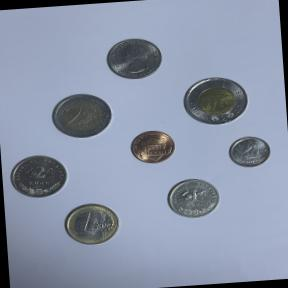1 Euro: (58, 198, 124, 250)
2 Euro: (47, 88, 118, 144)
Canda-10cent-: (225, 131, 273, 171)
Canda-2Dollar-: (179, 72, 252, 130)
US-1cent-: (126, 127, 178, 168)
US-25cent-: (4, 151, 72, 203), (100, 33, 167, 85)
